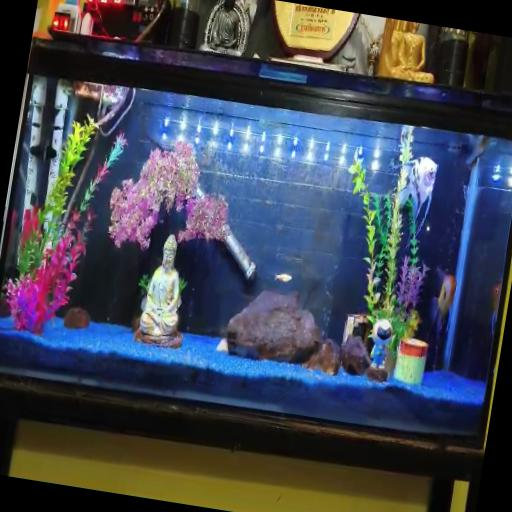Fish: (398, 156, 438, 236), (430, 269, 456, 339), (466, 134, 495, 164), (490, 283, 500, 336), (274, 273, 291, 282)
